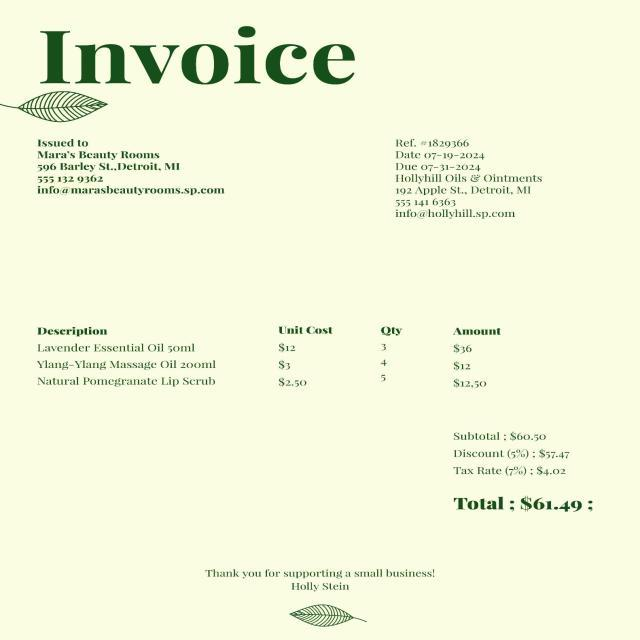ROI: (26, 300, 518, 405), (32, 20, 364, 87), (371, 128, 572, 232), (202, 552, 449, 630), (23, 133, 242, 210), (428, 421, 596, 484), (444, 492, 604, 528), (0, 89, 117, 125)
